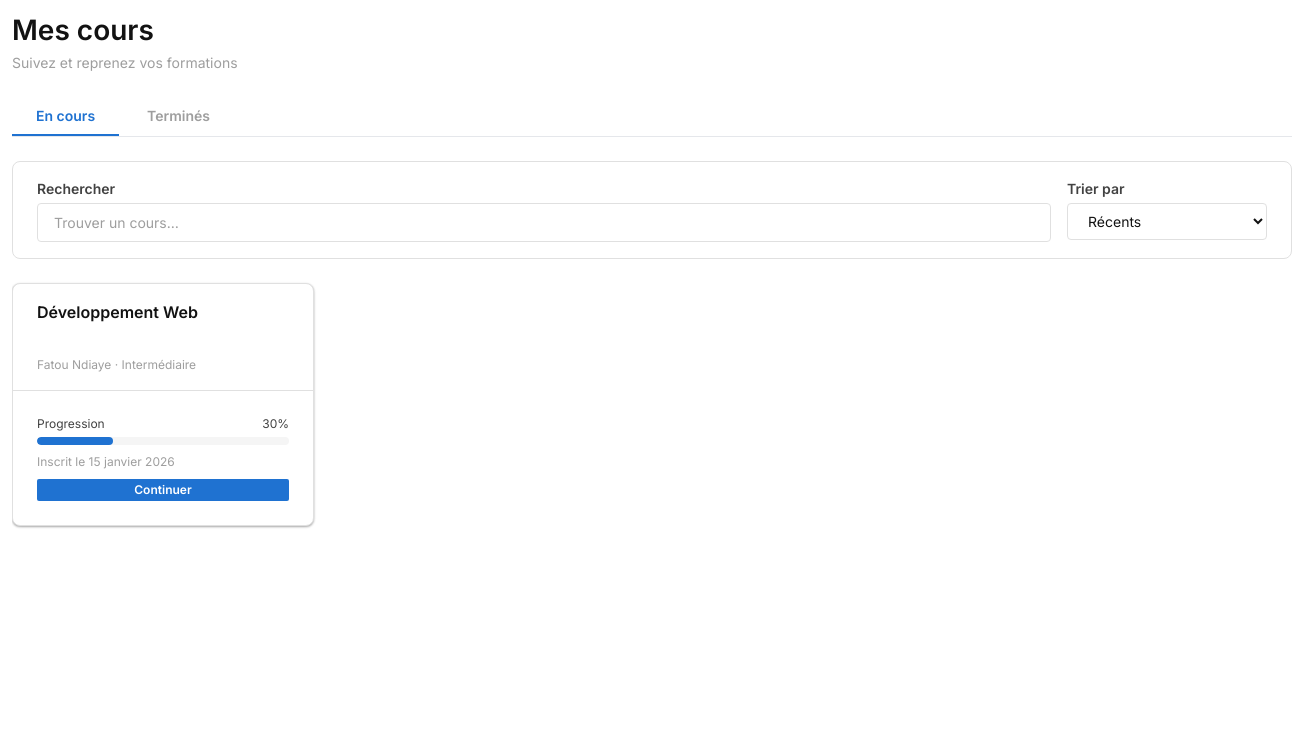
Test case: MyCoursesListComponent › should show only completed courses on the completed tab
What coordinates should you click on to do the following:
click the button "Terminés"
I would click on:
 (179, 117)
Its box is [123,97,234,136].
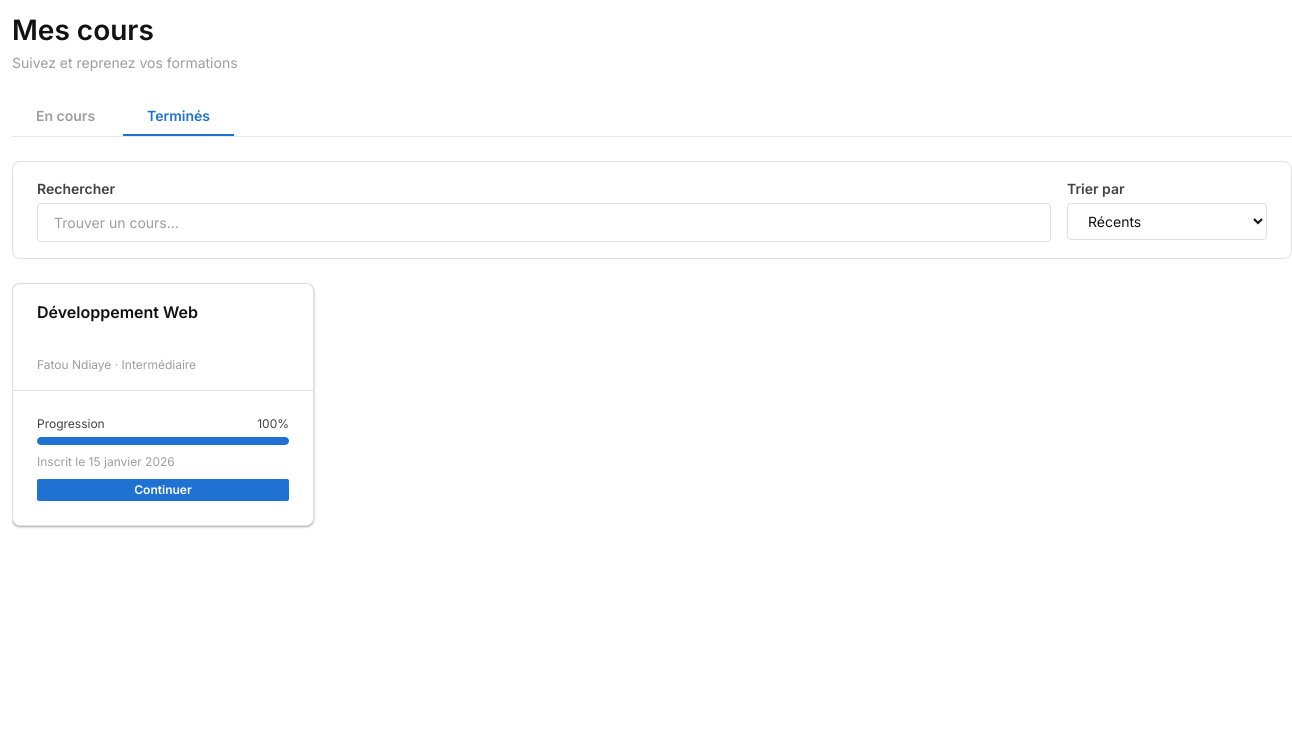
Expected: the text "100%" is shown, [257,415,289,433]
